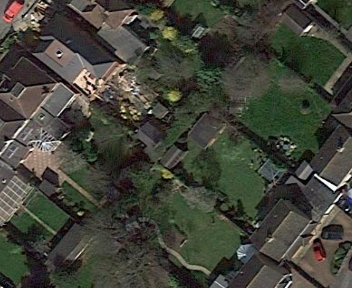tree: (174, 172, 226, 220), (189, 56, 232, 97), (292, 95, 314, 123)
